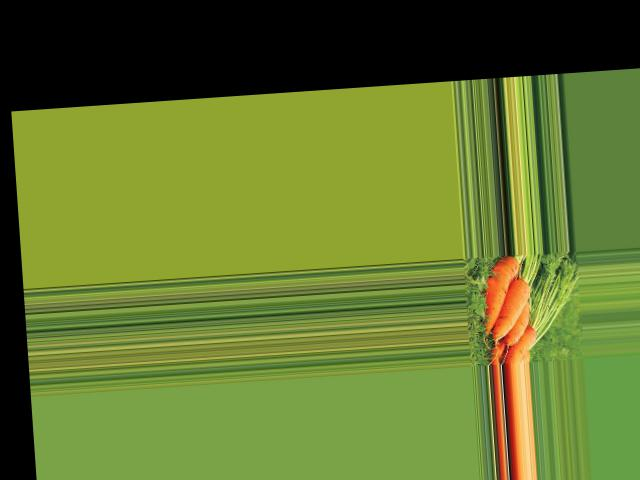carrot: (499, 325, 542, 361)
